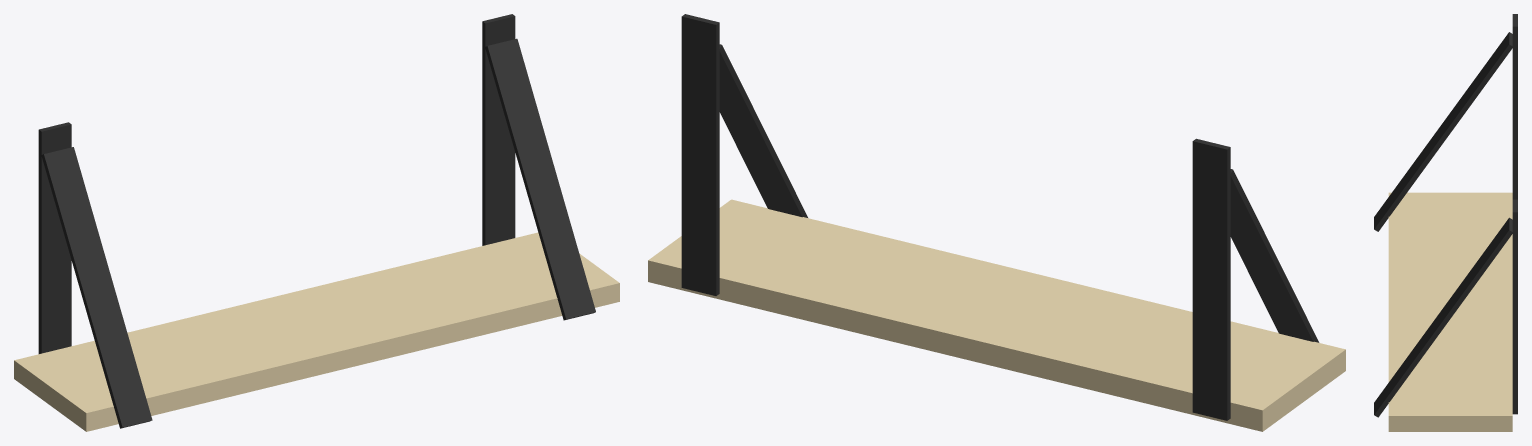
The model's file is jangsik.fbx.
3 views of the same model, side by side, from view 1: azimuth 30°, elevation 25°; view 2: azimuth 150°, elevation 25°; view 3: azimuth 270°, elevation 25° (orthographic). The views are drawn at different scales.
Visible parts, largest first — view 1: pCube12; view 2: pCube12; view 3: pCube12.
Boxes of the visible parts, box(x1,y1,x2,y2) form: pCube12: box(14, 14, 619, 431); pCube12: box(648, 14, 1345, 431); pCube12: box(1374, 14, 1517, 431).
Bounding box in the file's own units: 8.63 × 3.72 × 2.35.
